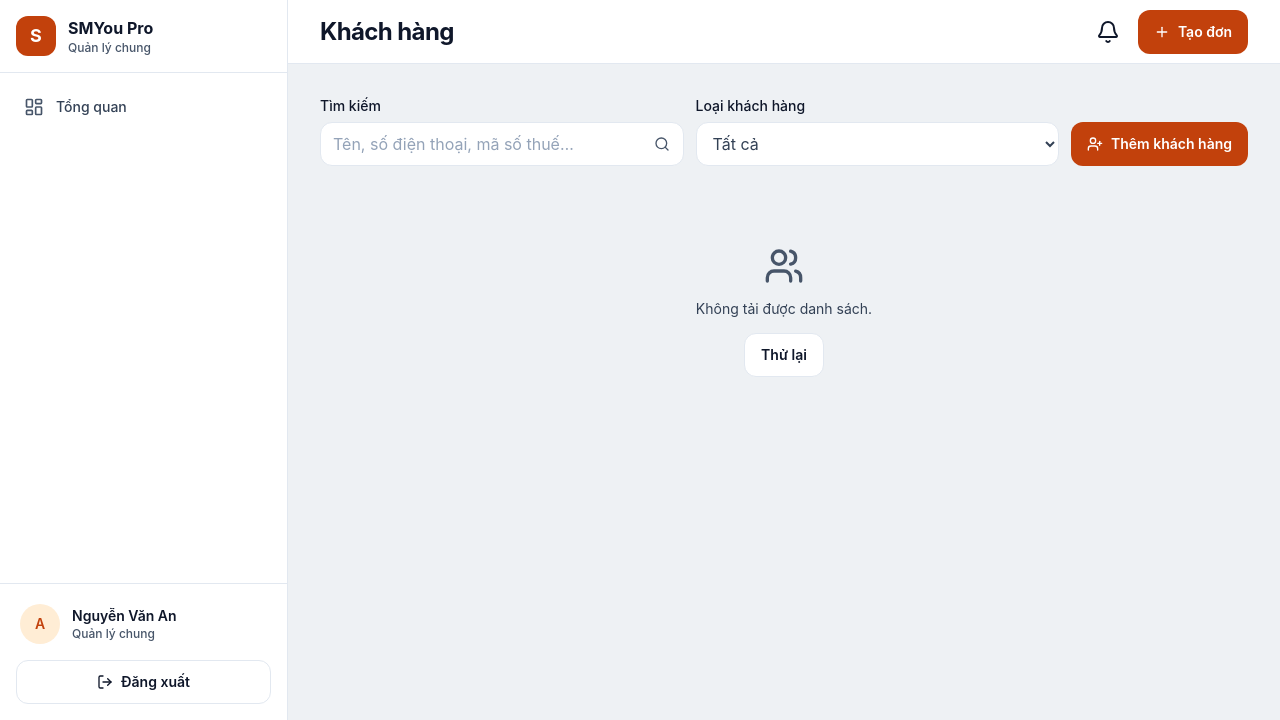
Test: AC-CUS-009 danh sách khách hàng › trạng thái tải, trống, lỗi + Thử lại
Expected: the text "Không tải được danh sách." is shown, [696,298,872,321]
Click the button "Thử lại" at (784, 355), box [744,333,824,377]
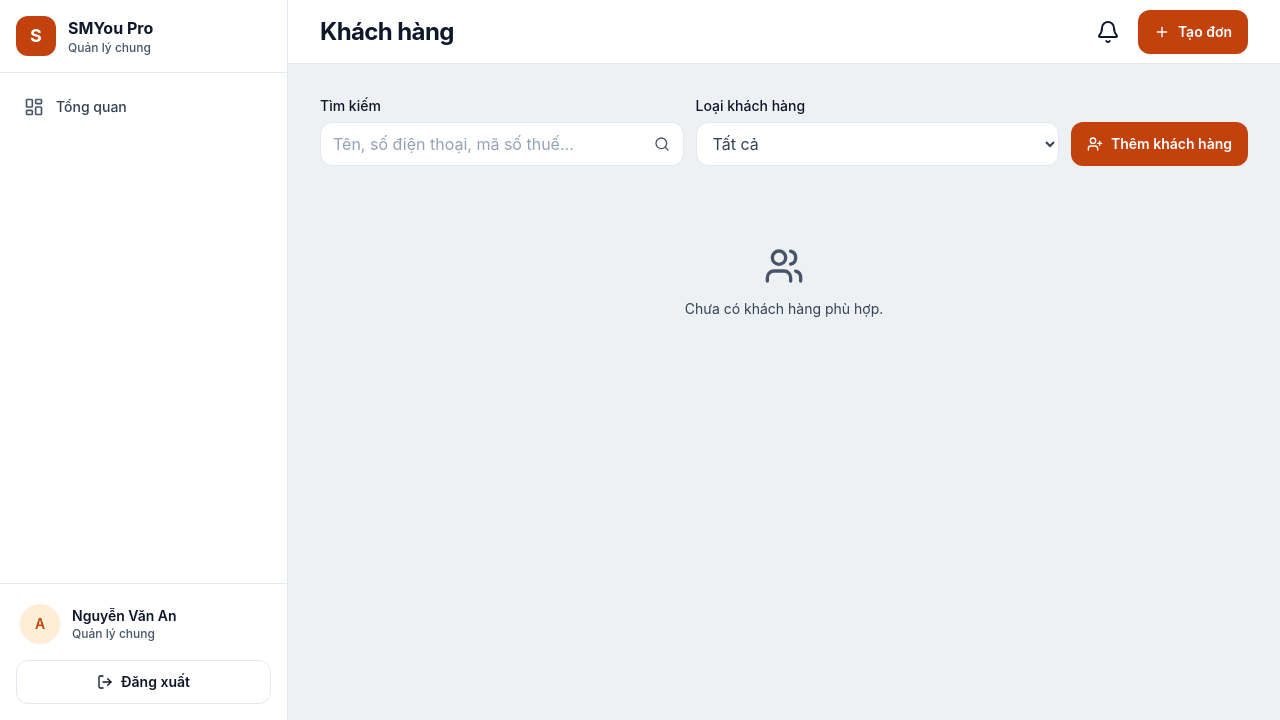
Now the text "Chưa có khách hàng phù hợp." is shown, box [685,298,883,321]
